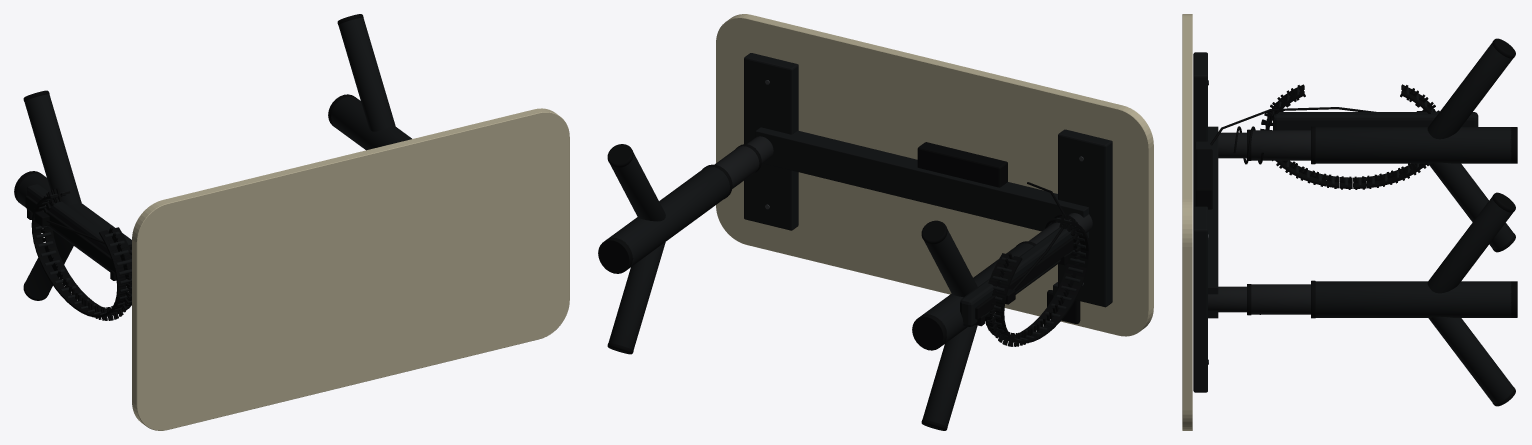
The model's file is table.obj.
3 views of the same model, side by side, from view 1: azimuth 30°, elevation 25°; view 2: azimuth 150°, elevation 25°; view 3: azimuth 270°, elevation 25° (orthographic).
Visible parts, largest first — view 1: Table_1200x600x800mm_ONE_OBJECT; view 2: Table_1200x600x800mm_ONE_OBJECT; view 3: Table_1200x600x800mm_ONE_OBJECT.
Part boxes in pixels (x1,y1,x2,y2): Table_1200x600x800mm_ONE_OBJECT: [14, 14, 569, 430]; Table_1200x600x800mm_ONE_OBJECT: [598, 14, 1153, 430]; Table_1200x600x800mm_ONE_OBJECT: [1182, 14, 1517, 430].
Bounding box in the file's own units: 1.2 × 0.6 × 0.8.
